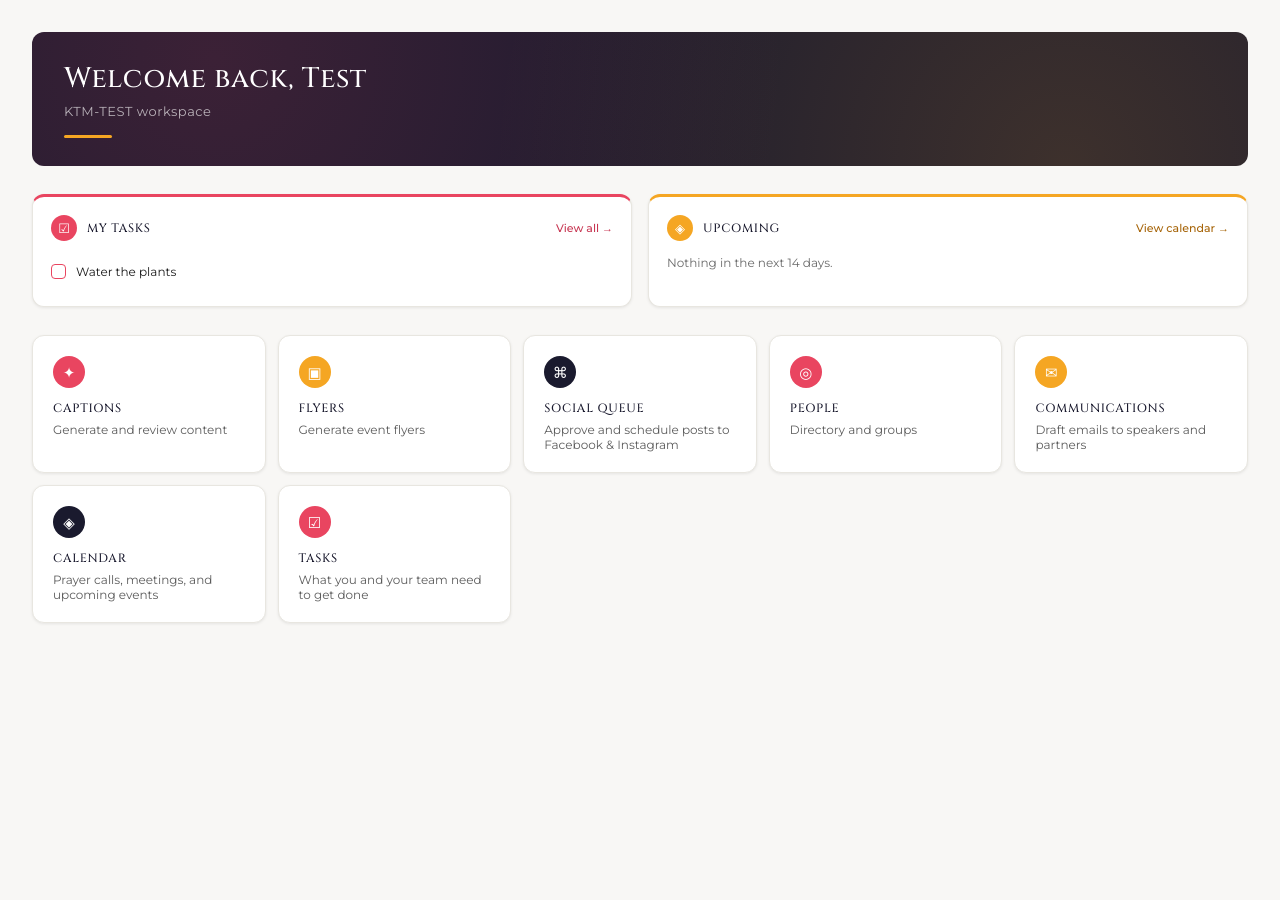
Scenario: My Tasks and Upcoming widgets › shows an error and keeps the task visible if completing it fails
This screenshot has width=1280, height=900.
What coordinates should you click on to do the following:
click the button titled "Mark complete"
I would click on:
 (58, 272)
Its box is [51, 264, 66, 279].
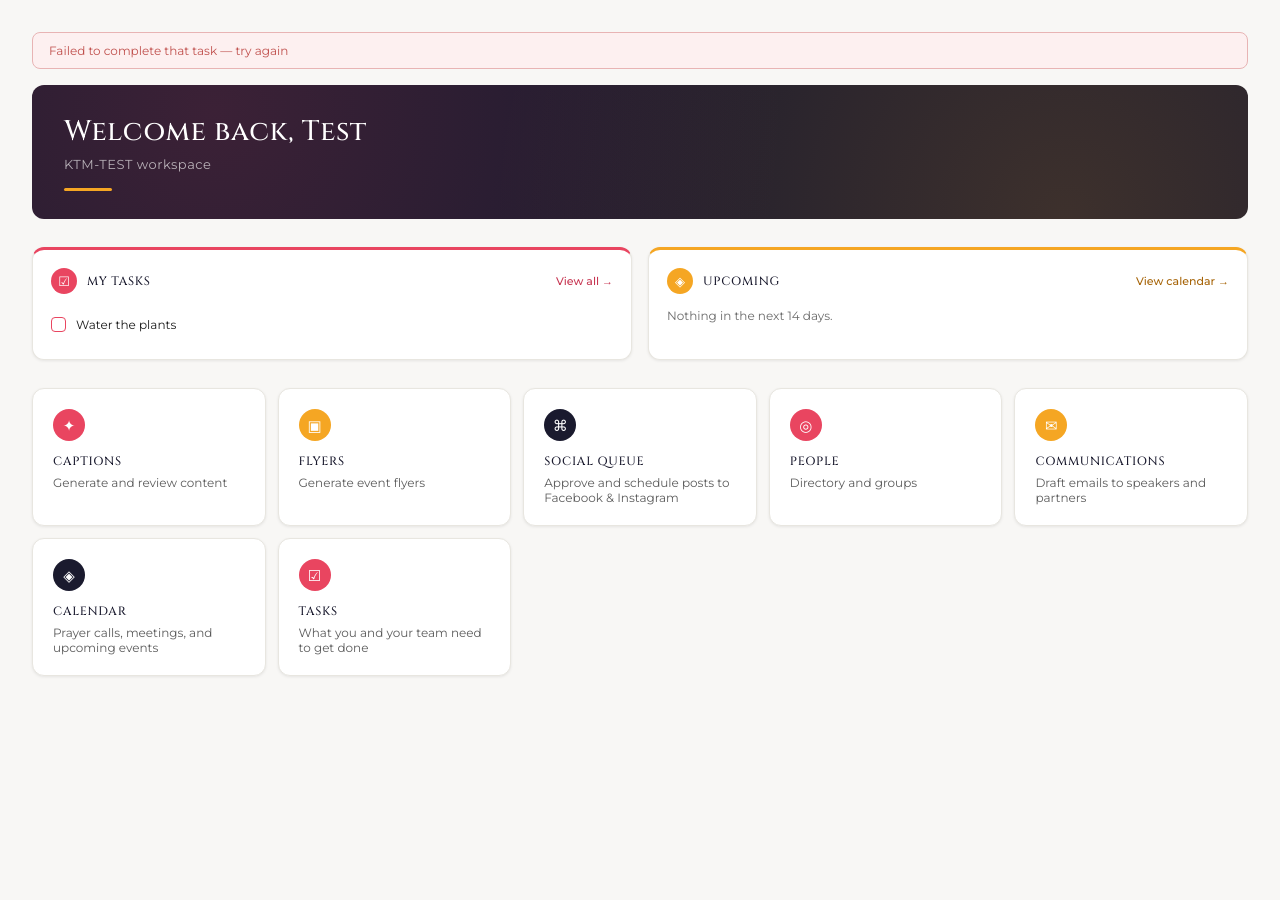
Expected: the text "Water the plants" is shown, [76, 317, 176, 332]
Expected: the text "Failed to complete that task — try again" is shown, [32, 32, 1248, 69]
